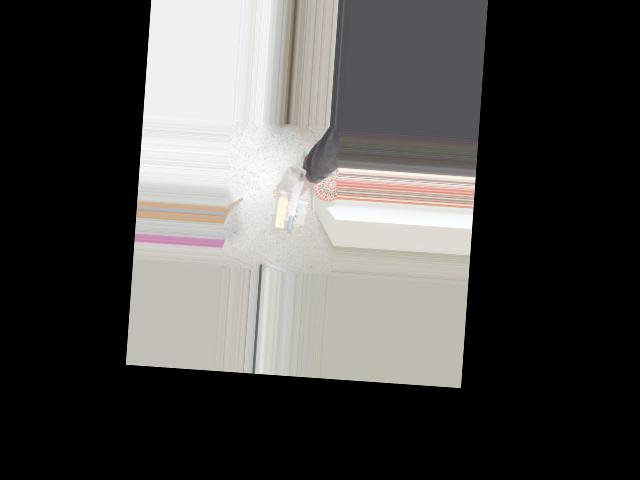cheese: (272, 167, 306, 232)
